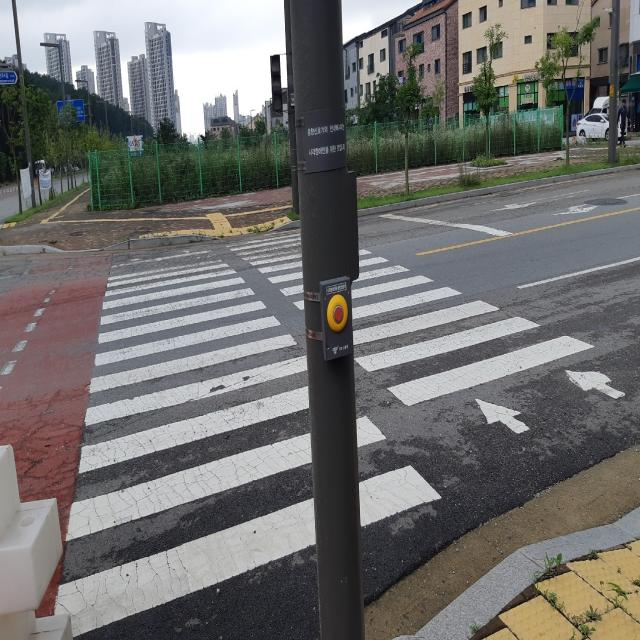횡단보도: (48, 225, 629, 640)
